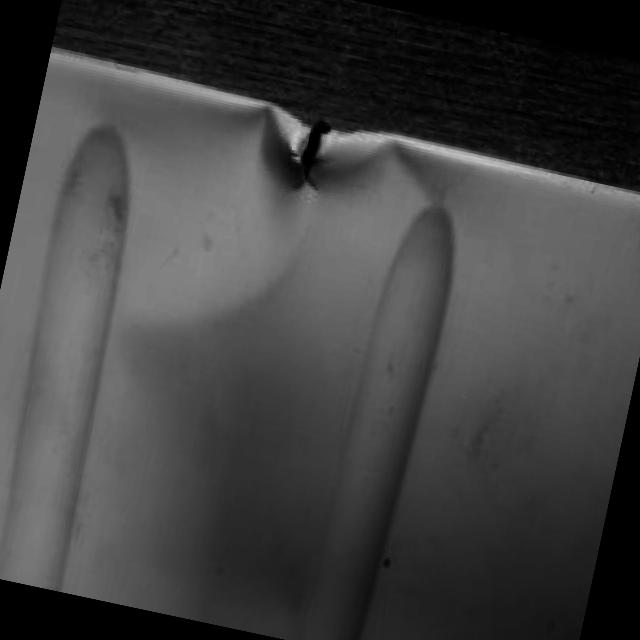crack: (272, 102, 346, 206)
